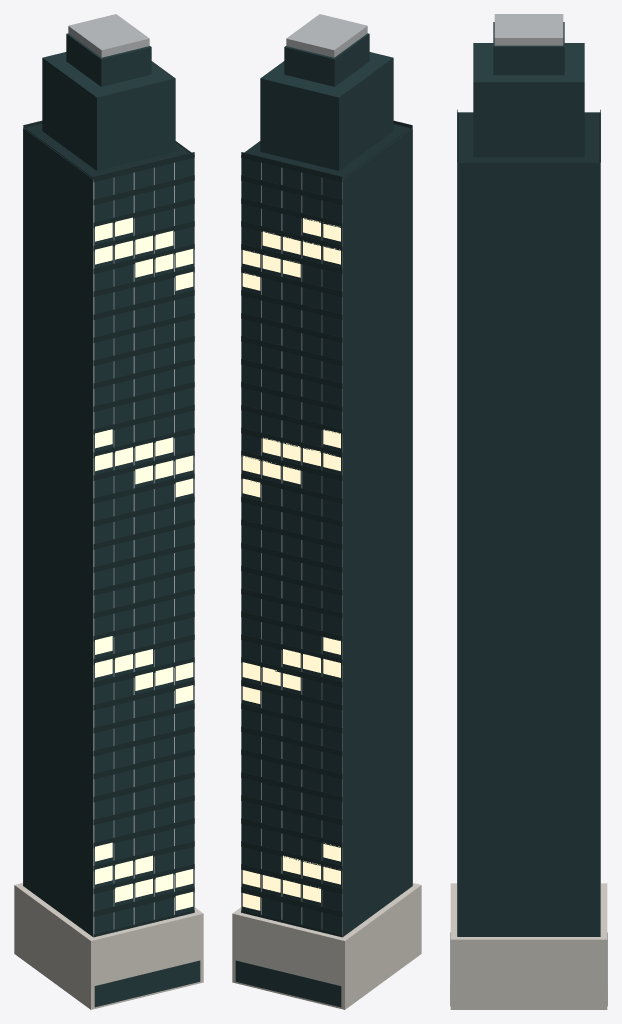
The model's file is tower_res_teal_36.glb.
3 views of the same model, side by side, from view 1: azimuth 30°, elevation 25°; view 2: azimuth 150°, elevation 25°; view 3: azimuth 270°, elevation 25° (orthographic). The views are drawn at different scales.
Visible parts, largest first — view 1: tower_res_teal_36; view 2: tower_res_teal_36; view 3: tower_res_teal_36.
Boxes of the visible parts, x1,y1,x2,y2 form: tower_res_teal_36: (14, 14, 203, 1009); tower_res_teal_36: (232, 14, 421, 1009); tower_res_teal_36: (450, 14, 607, 1009).
Bounding box in the file's own units: 19 × 151 × 22.54.
